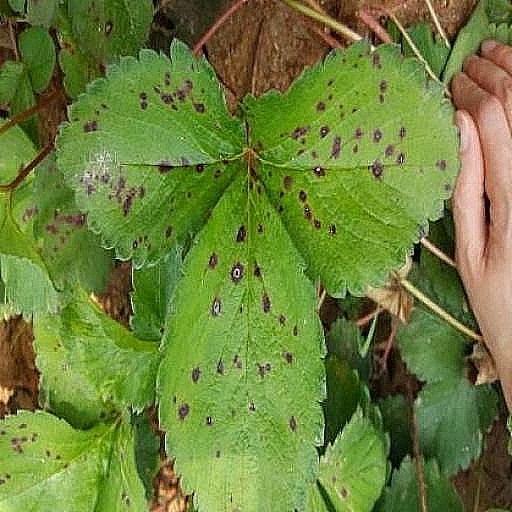Leaf Spot: (182, 0, 357, 351), (48, 208, 272, 477), (263, 243, 459, 477), (394, 213, 502, 363), (378, 0, 511, 103), (380, 82, 482, 200), (124, 0, 195, 110), (362, 446, 445, 511), (347, 0, 396, 108), (408, 414, 456, 511)
